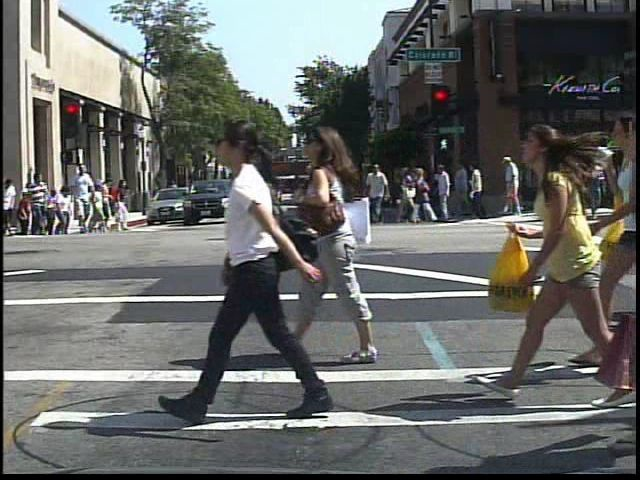person: (193, 109, 328, 427), (512, 103, 614, 403), (290, 119, 382, 363), (67, 161, 95, 235), (24, 172, 50, 239), (499, 152, 525, 218), (2, 173, 22, 239), (106, 175, 126, 214), (165, 174, 183, 211)
